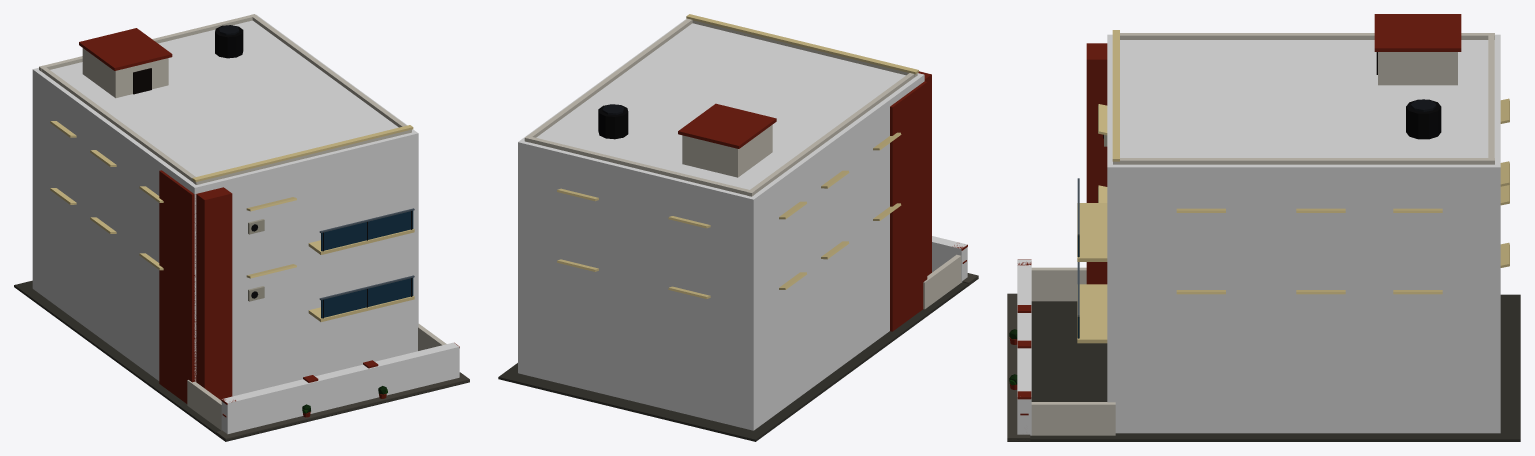
The model's file is CHN_048_small_apt.glb.
3 renders of one model, left to right at view 1: azimuth 30°, elevation 25°; view 2: azimuth 150°, elevation 25°; view 3: azimuth 270°, elevation 25°, orthographic. The views are drawn at different scales.
Visible parts, largest first — view 1: COL_Main, LOD0, COL_Compound; view 2: COL_Main, LOD0, COL_Compound; view 3: COL_Main, LOD0, COL_Compound.
Boxes of the visible parts, bbox=[...] form: COL_Main: bbox=[32, 14, 418, 396]; LOD0: bbox=[14, 14, 469, 441]; COL_Compound: bbox=[221, 342, 459, 434]; COL_Main: bbox=[518, 18, 924, 430]; LOD0: bbox=[498, 14, 978, 441]; COL_Compound: bbox=[932, 236, 967, 282]; COL_Main: bbox=[1107, 34, 1500, 433]; LOD0: bbox=[1007, 14, 1520, 441]; COL_Compound: bbox=[1017, 259, 1031, 435].
Size of what is drawn, in the model's own units: 12 by 11.89 by 18.
